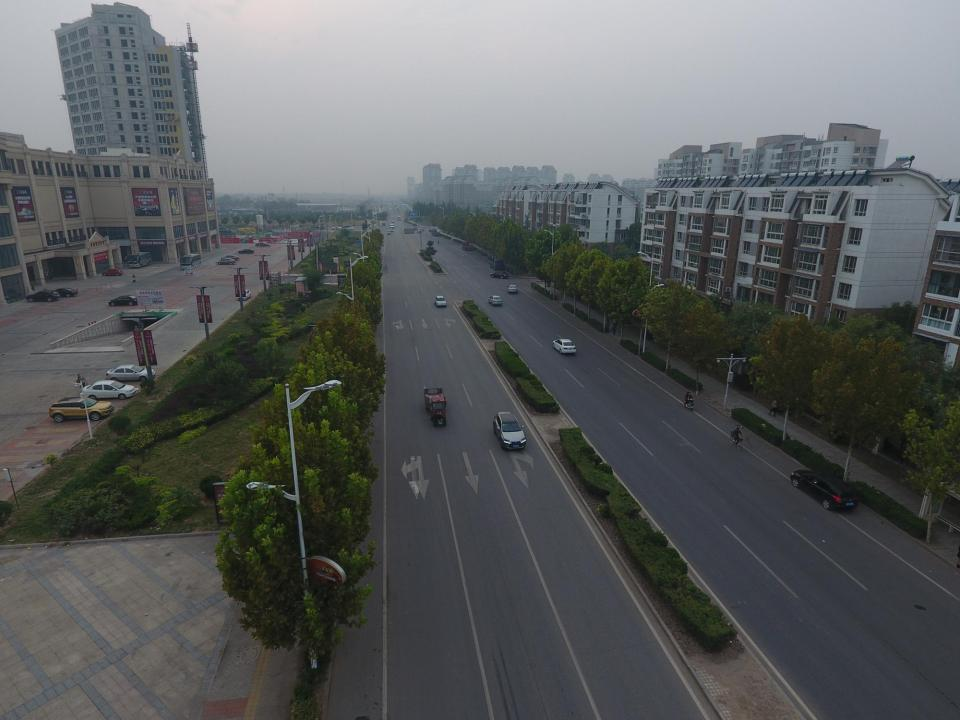bus: (125, 251, 152, 268), (177, 253, 202, 270)
car: (790, 470, 859, 512), (49, 396, 115, 423), (493, 411, 526, 451), (82, 380, 136, 400), (106, 364, 156, 381), (26, 290, 60, 302), (552, 338, 576, 354), (108, 296, 141, 306), (51, 288, 78, 296), (101, 268, 123, 276), (488, 295, 503, 305), (434, 295, 446, 307), (490, 271, 508, 279), (236, 290, 250, 300), (216, 258, 236, 264), (221, 255, 239, 261), (238, 248, 254, 254), (255, 242, 271, 247), (507, 284, 517, 292), (344, 226, 354, 230), (331, 226, 340, 230), (290, 224, 298, 227), (343, 224, 351, 227), (410, 227, 417, 230), (417, 228, 421, 233), (389, 228, 393, 232), (420, 227, 424, 231), (391, 220, 394, 222)
truck: (489, 257, 504, 272), (462, 242, 472, 251), (431, 230, 440, 237)
van: (390, 224, 394, 229), (387, 230, 391, 234), (398, 216, 401, 220)
